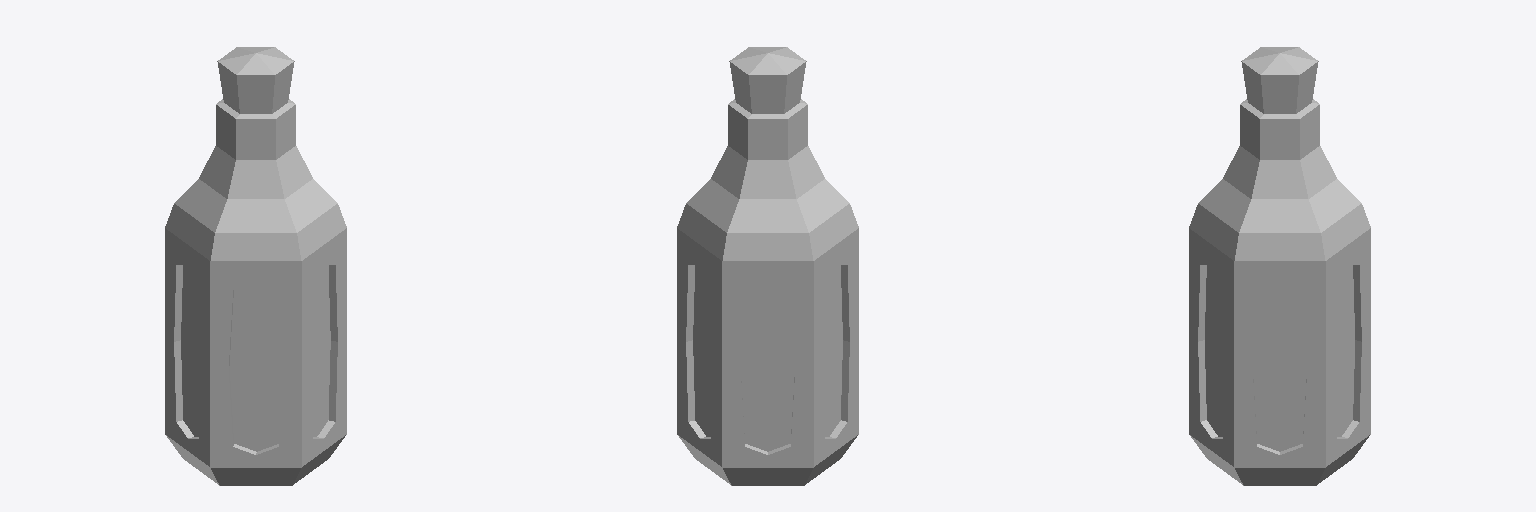
Rendered from potion_h.obj.
3 views of the same model, side by side, from view 1: azimuth 30°, elevation 25°; view 2: azimuth 150°, elevation 25°; view 3: azimuth 270°, elevation 25° (orthographic).
Visible parts, largest first — view 1: skin; view 2: skin; view 3: skin.
Boxes of the visible parts, <box> form: skin: <box>165,47,346,485</box>; skin: <box>677,47,858,485</box>; skin: <box>1189,47,1370,485</box>.
Bounding box in the file's own units: 1.73 × 4.92 × 2.